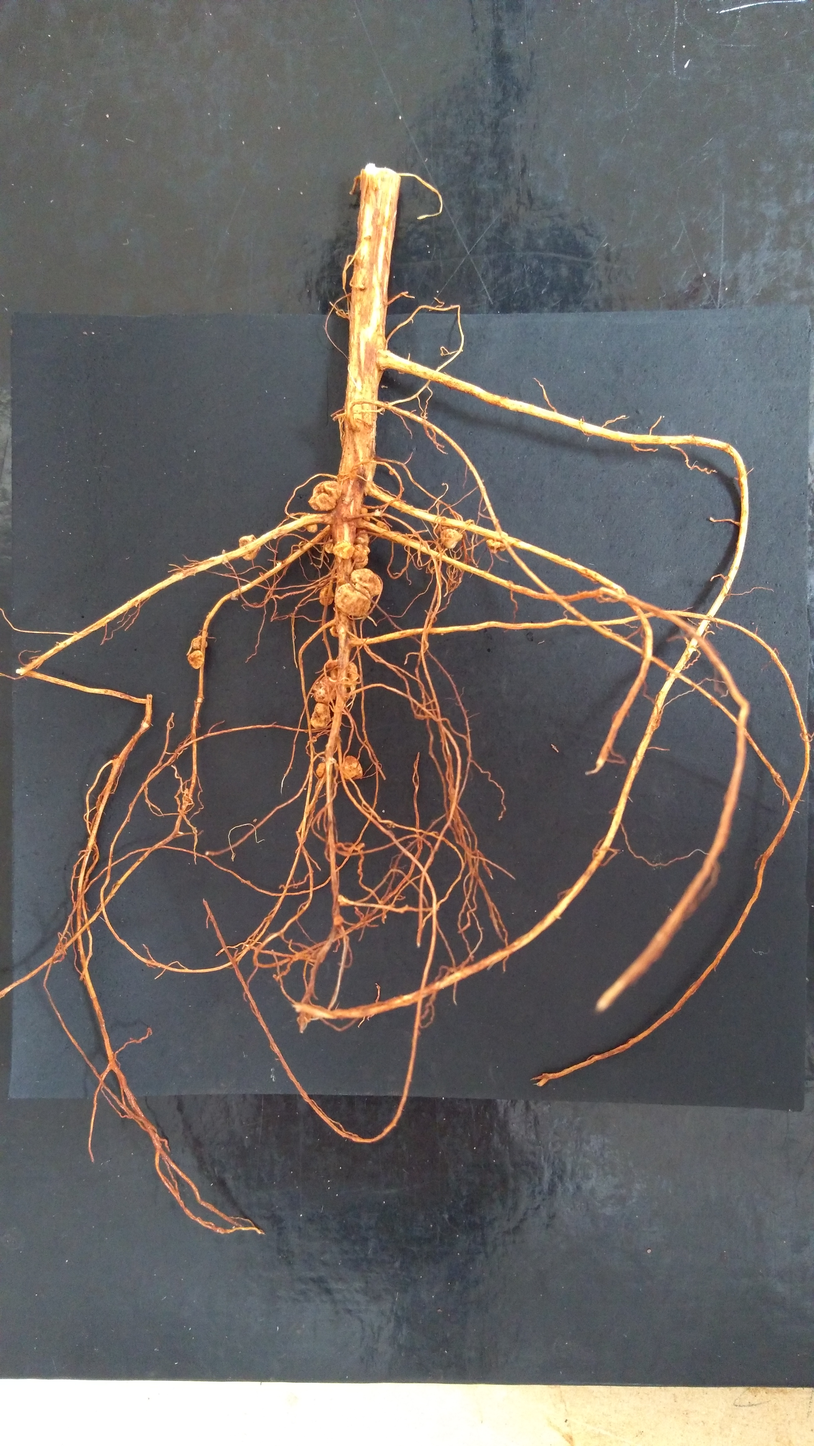nodule: (334, 568, 381, 616), (308, 481, 342, 511), (326, 658, 358, 688), (313, 676, 336, 703), (239, 534, 261, 561), (340, 756, 363, 781), (310, 703, 330, 730), (352, 544, 370, 570), (440, 529, 463, 549), (332, 540, 355, 559), (343, 481, 359, 504), (300, 513, 317, 533), (319, 584, 334, 606), (355, 528, 369, 548), (495, 530, 508, 551), (188, 651, 203, 669), (486, 539, 503, 553), (191, 636, 208, 649), (338, 895, 353, 906), (376, 521, 389, 533), (316, 763, 326, 777), (325, 539, 334, 554), (361, 507, 370, 522), (333, 913, 343, 926), (441, 524, 458, 531), (330, 625, 339, 637), (354, 283, 365, 290), (387, 822, 396, 829), (230, 593, 238, 600), (389, 469, 395, 475)
